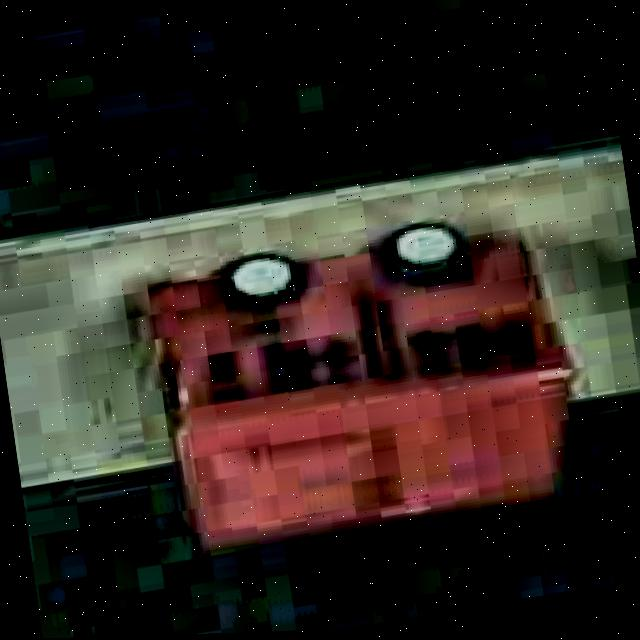bus: (136, 194, 594, 564)
